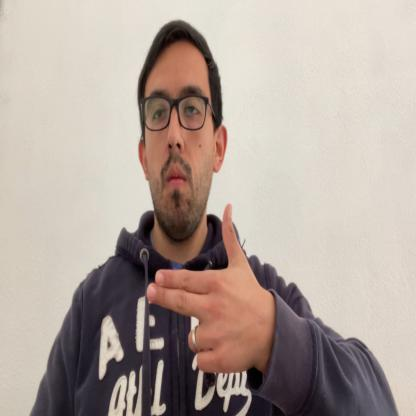H: (146, 204, 264, 373)
